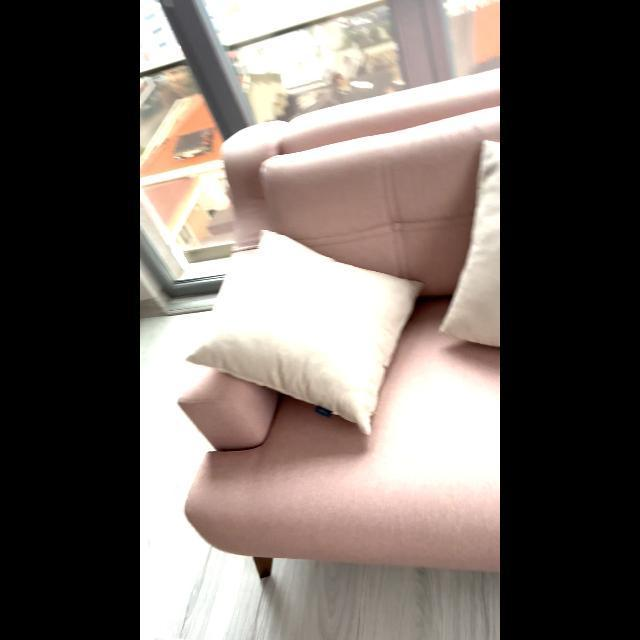throw pillow: (168, 223, 426, 443)
